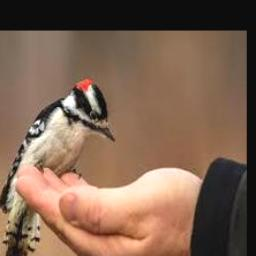Woodpecker: (0, 77, 115, 256)
